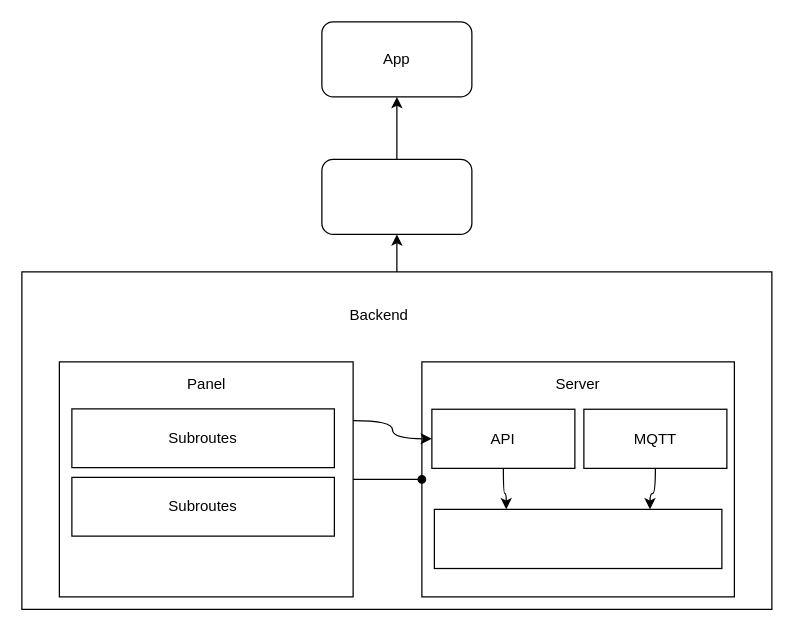
Some shapes in this 794 by 631 pixel diagram are drawn without their labels. The shapes that lost their labels are listed below. From the top down, each one's box as (x1, y1, x2, y2) in pixels, then its label:
(321, 158, 472, 234): Proxy
(433, 508, 722, 568): Database
